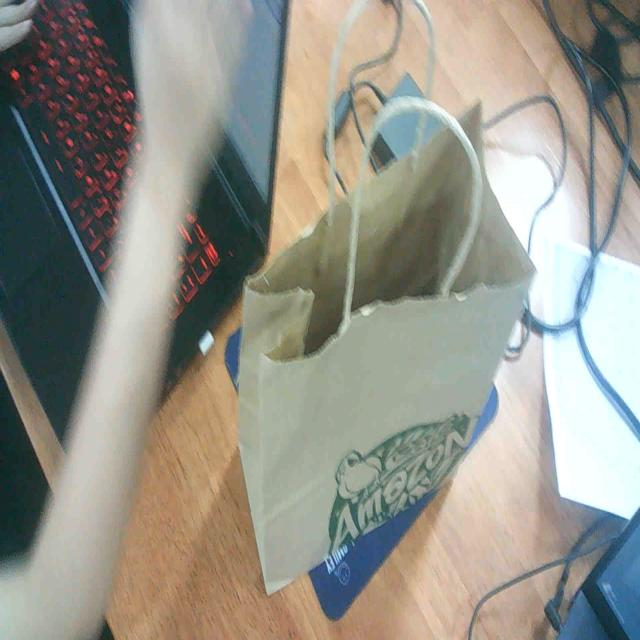bag: (214, 116, 539, 570)
